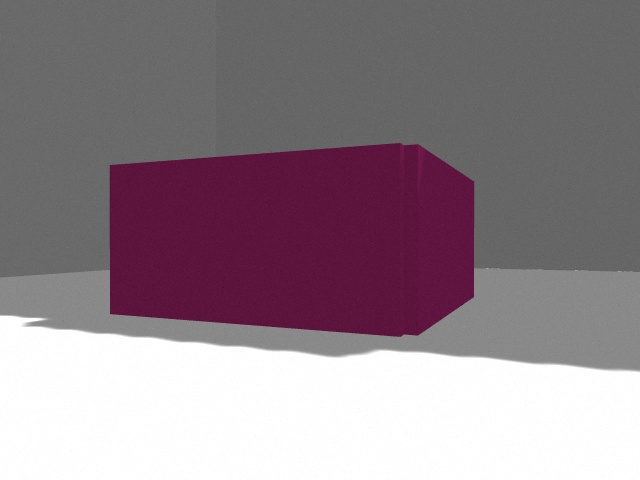red_drop_zone: (110, 143, 474, 337)
